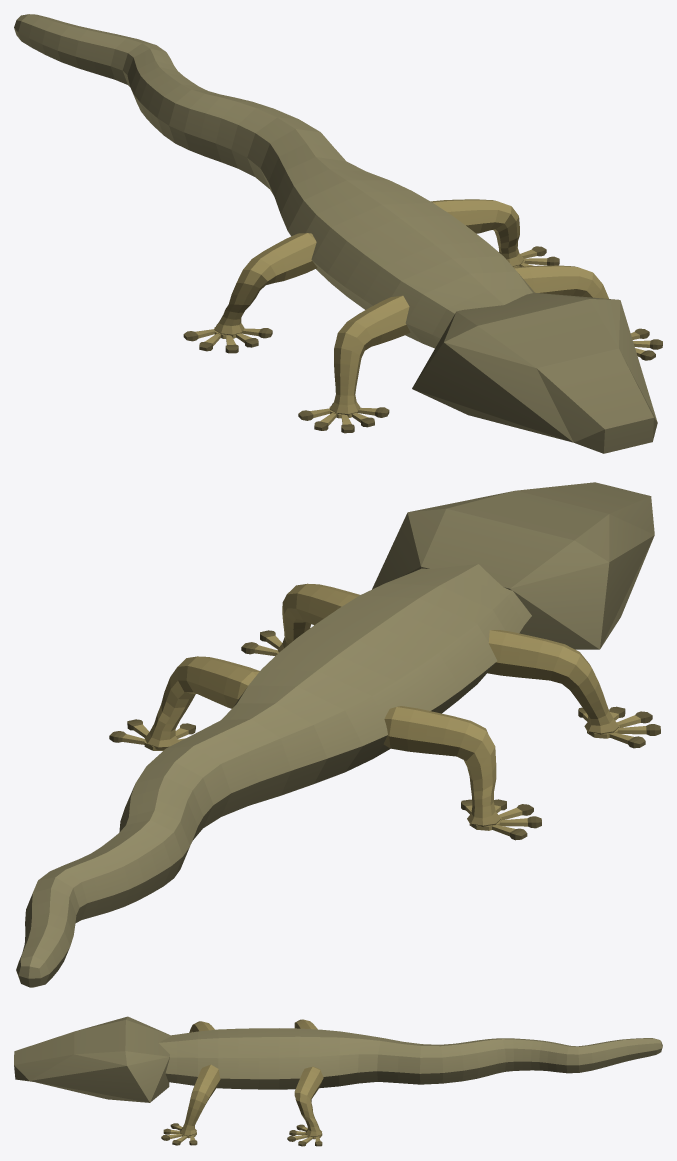
File: lizard.glb
3 views of the same model, one above another, from view 1: azimuth 30°, elevation 25°; view 2: azimuth 150°, elevation 25°; view 3: azimuth 270°, elevation 25° (orthographic). The views are drawn at different scales.
Parts seen in each view (by area): view 1: lizard_merged; view 2: lizard_merged; view 3: lizard_merged.
Boxes of the visible parts, box(x1,y1,x2,y2) form: lizard_merged: box(14, 14, 662, 453); lizard_merged: box(16, 482, 660, 987); lizard_merged: box(14, 1016, 662, 1146).
Size of the model in its own units: 1.77 by 0.5057 by 4.8.
4 materials, 4 textured.
